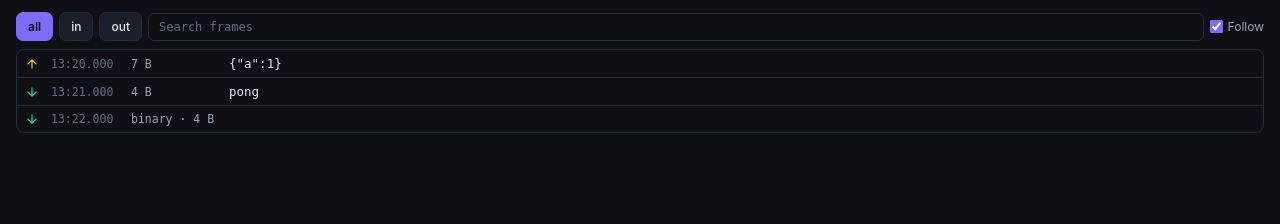
Test: lists frames, filters by direction, expands pretty
The width and height of the screenshot is (1280, 224).
Expected: the number of rows is 3, x1=17 y1=50 x2=1263 y2=78; x1=17 y1=78 x2=1263 y2=106; x1=25 y1=112 x2=214 y2=126
Expected: the text "binary · 4 B" is shown, x1=131 y1=112 x2=221 y2=126
Click the button "in": click(76, 26) x1=59 y1=12 x2=94 y2=41
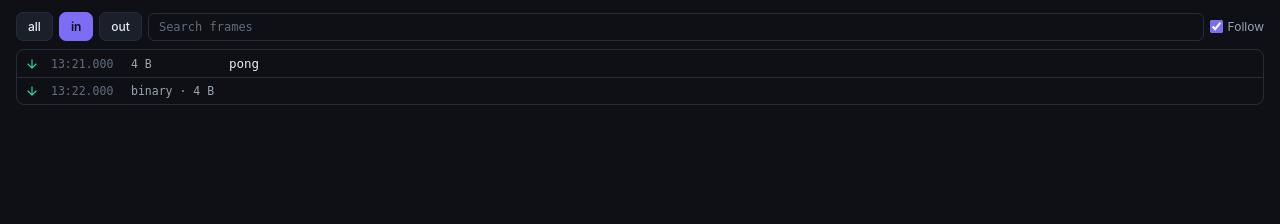
Now the number of rows is 2, box x1=17 y1=50 x2=1263 y2=78; x1=25 y1=84 x2=214 y2=98
Click the button "all": click(34, 26) x1=16 y1=12 x2=53 y2=41
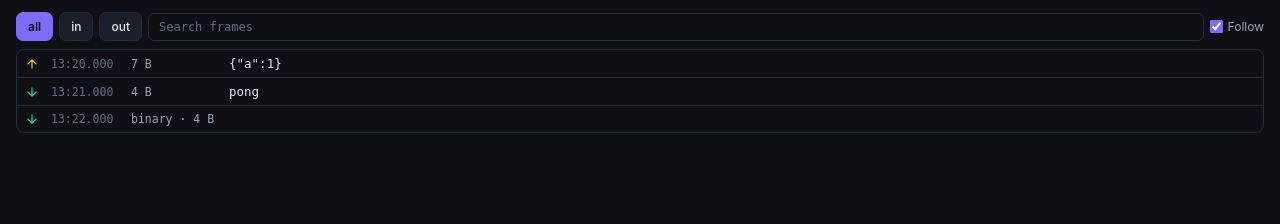
Click the text "{\"a\":1}": click(255, 64) x1=229 y1=56 x2=282 y2=71
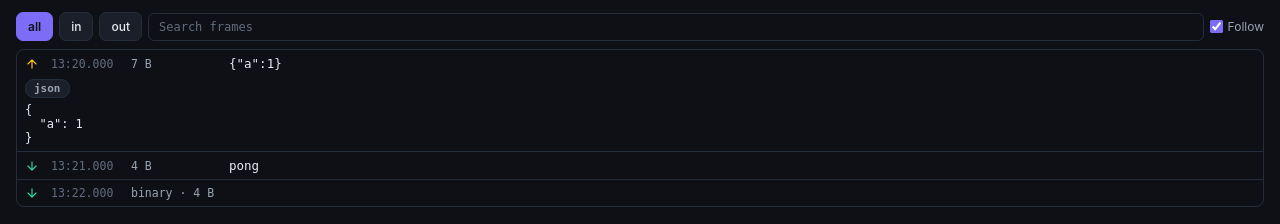
Now the text "{ \"a\": 1 }" is shown, box x1=25 y1=103 x2=83 y2=145
Now the text "json" is shown, box x1=25 y1=79 x2=70 y2=98
